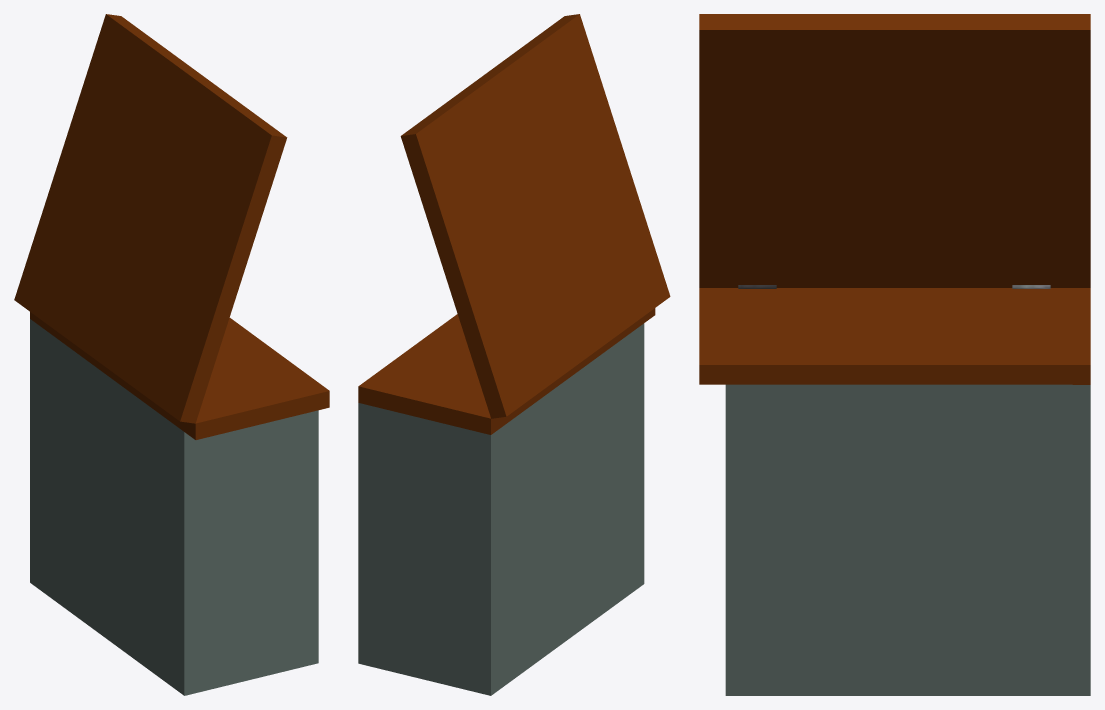
Rendered from SM_Counter_Entry_Open_01.glb.
The picture shows the model from 3 angles, left to right: view 1: azimuth 30°, elevation 25°; view 2: azimuth 150°, elevation 25°; view 3: azimuth 270°, elevation 25°; orthographic projection. The views are drawn at different scales.
Parts seen in each view (by area): view 1: SM_Counter_Entry_Open_01; view 2: SM_Counter_Entry_Open_01; view 3: SM_Counter_Entry_Open_01.
Boxes of the visible parts, box(x1,y1,x2,y2) form: SM_Counter_Entry_Open_01: box(14, 14, 329, 695); SM_Counter_Entry_Open_01: box(358, 14, 670, 695); SM_Counter_Entry_Open_01: box(699, 14, 1090, 695).
Size of the model in its own units: 0.5589 by 1.96 by 1.07.
2 materials, 1 textured.
